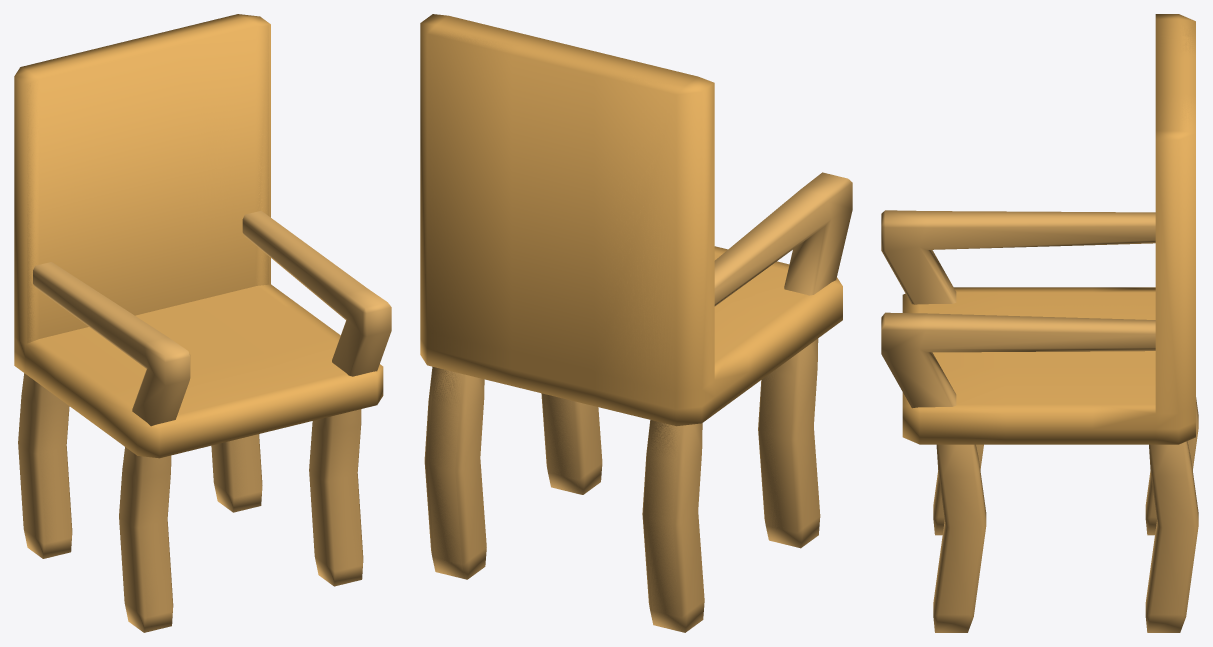
File: props_chair_2.fbx
3 views of the same model, side by side, from view 1: azimuth 30°, elevation 25°; view 2: azimuth 150°, elevation 25°; view 3: azimuth 270°, elevation 25° (orthographic). The views are drawn at different scales.
Parts seen in each view (by area): view 1: Cube.012; view 2: Cube.012; view 3: Cube.012.
Part boxes in pixels (bbox=[...]): Cube.012: bbox=[14, 14, 391, 632]; Cube.012: bbox=[420, 14, 852, 632]; Cube.012: bbox=[881, 14, 1198, 632].
Bounding box in the file's own units: 68.24 × 72.44 × 127.
